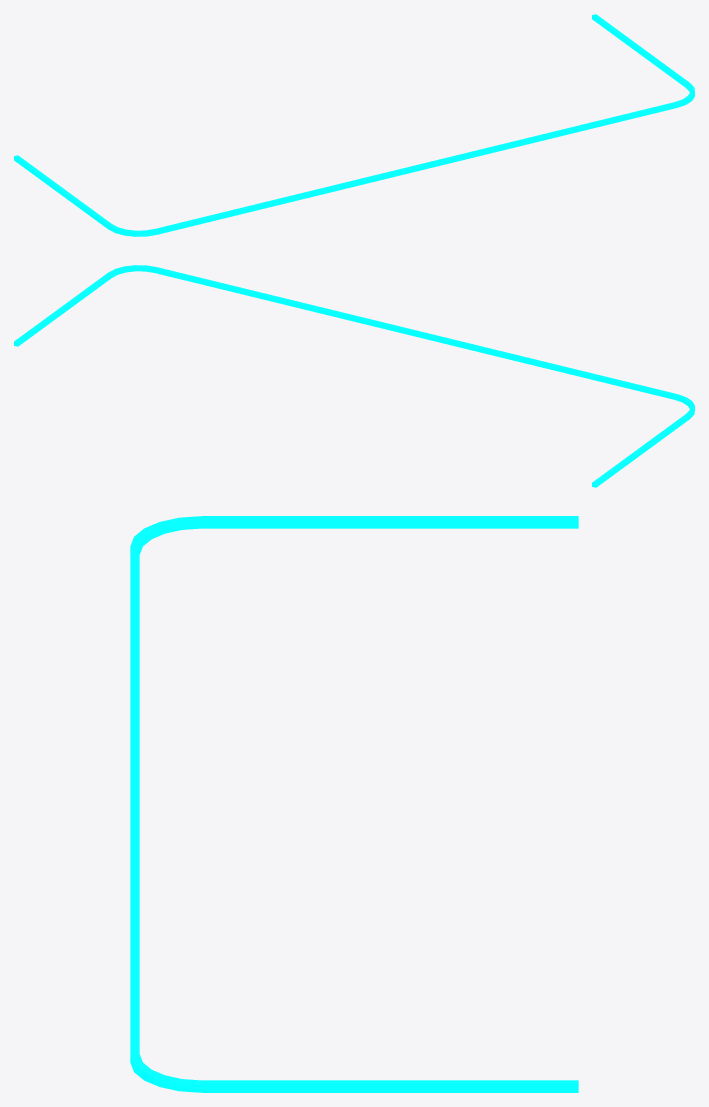
File: LEDTrimLight.fbx
The picture shows the model from 3 angles, top to bottom: view 1: azimuth 30°, elevation 25°; view 2: azimuth 150°, elevation 25°; view 3: azimuth 270°, elevation 25°; orthographic projection. The views are drawn at different scales.
Visible parts, largest first — view 1: LEDTrimLight; view 2: LEDTrimLight; view 3: LEDTrimLight.
Part boxes in pixels (x1=…): LEDTrimLight: x1=14, y1=14, x2=694, y2=236; LEDTrimLight: x1=14, y1=265, x2=694, y2=487; LEDTrimLight: x1=130, y1=516, x2=578, y2=1092.
Size of the model in its own units: 360 by 2.5 by 120.
Materials: 1 (1 with a texture image).
